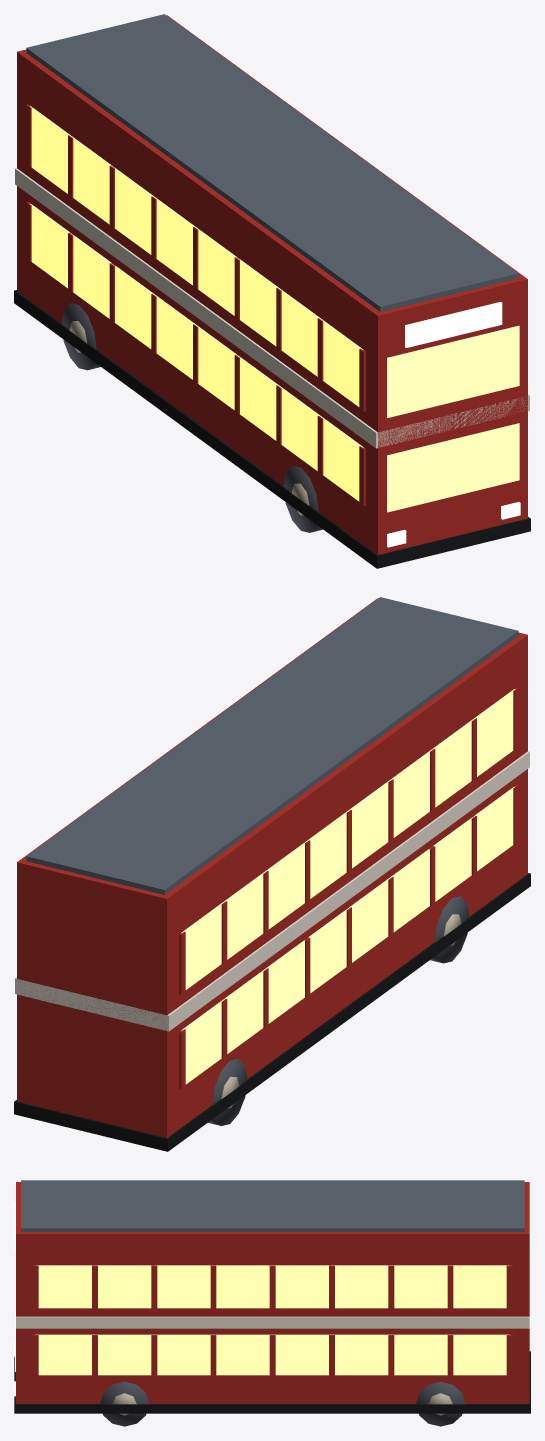
The model's file is cp_bus.glb.
3 views of the same model, one above another, from view 1: azimuth 30°, elevation 25°; view 2: azimuth 150°, elevation 25°; view 3: azimuth 270°, elevation 25° (orthographic). The views are drawn at different scales.
Parts seen in each view (by area): view 1: city_cp_bus; view 2: city_cp_bus; view 3: city_cp_bus.
Part boxes in pixels (<box>): city_cp_bus: <box>14,14,530,568</box>; city_cp_bus: <box>14,597,530,1151</box>; city_cp_bus: <box>14,1180,530,1426</box>.
Bounding box in the file's own units: 2.58 × 4.38 × 10.47.
Materials: 2 (2 with a texture image).
